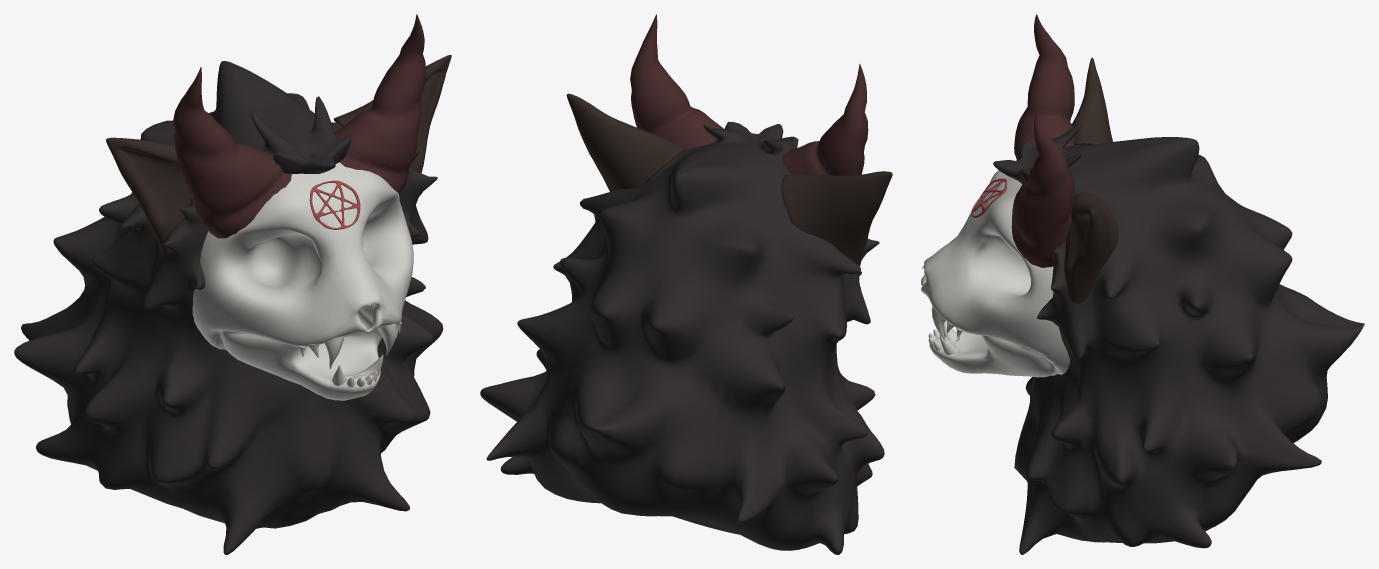
The model's file is lowpoly mom.fbx.
The picture shows the model from 3 angles, left to right: view 1: azimuth 30°, elevation 25°; view 2: azimuth 150°, elevation 25°; view 3: azimuth 270°, elevation 25°; orthographic projection. The views are drawn at different scales.
Visible parts, largest first — view 1: PM3D_Sphere3D3:Group14638, mom_character1_1:Group850, PM3D_Cone3D1:Group21733, Ear1:Group55809, Teeht:Group21004, mom_character1:Group65480; view 2: PM3D_Sphere3D3:Group14638, Ear1:Group55809, PM3D_Cone3D1:Group21733; view 3: PM3D_Sphere3D3:Group14638, mom_character1_1:Group850, PM3D_Cone3D1:Group21733, Ear1:Group55809, Teeht:Group21004.
Boxes of the visible parts, x1,y1,x2,y2 form: PM3D_Sphere3D3:Group14638: [14, 61, 443, 554]; mom_character1_1:Group850: [192, 162, 413, 400]; PM3D_Cone3D1:Group21733: [173, 14, 425, 238]; Ear1:Group55809: [106, 54, 451, 254]; Teeht:Group21004: [298, 322, 401, 387]; mom_character1:Group65480: [309, 180, 360, 229]; PM3D_Sphere3D3:Group14638: [480, 121, 884, 554]; Ear1:Group55809: [566, 93, 892, 264]; PM3D_Cone3D1:Group21733: [630, 14, 868, 175]; PM3D_Sphere3D3:Group14638: [993, 123, 1364, 554]; mom_character1_1:Group850: [921, 170, 1070, 377]; PM3D_Cone3D1:Group21733: [1011, 14, 1074, 267]; Ear1:Group55809: [1064, 57, 1118, 303]; Teeht:Group21004: [928, 306, 962, 354].
Size of the model in its own units: 3.65 by 4.62 by 4.01.
